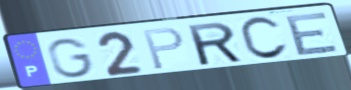2: (96, 29, 147, 78)
C: (237, 15, 291, 62)
E: (284, 10, 342, 58)
G: (45, 36, 96, 80)
P: (141, 25, 186, 72)
R: (184, 20, 246, 68)
